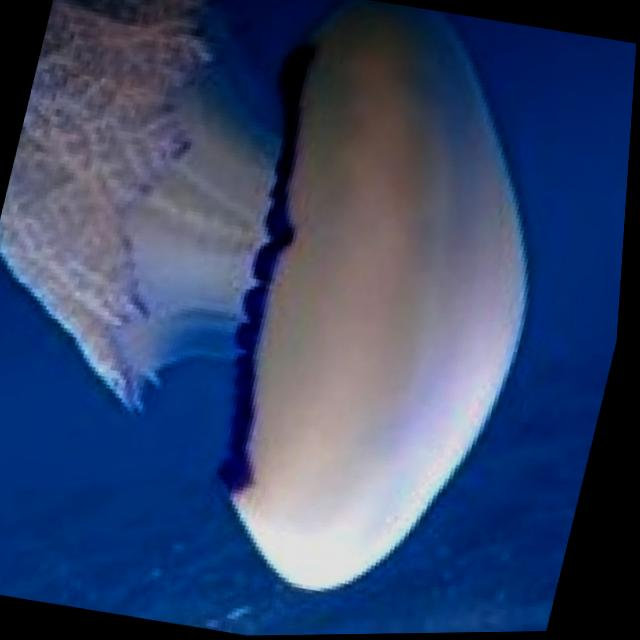Jellyfish: (164, 0, 599, 621)
